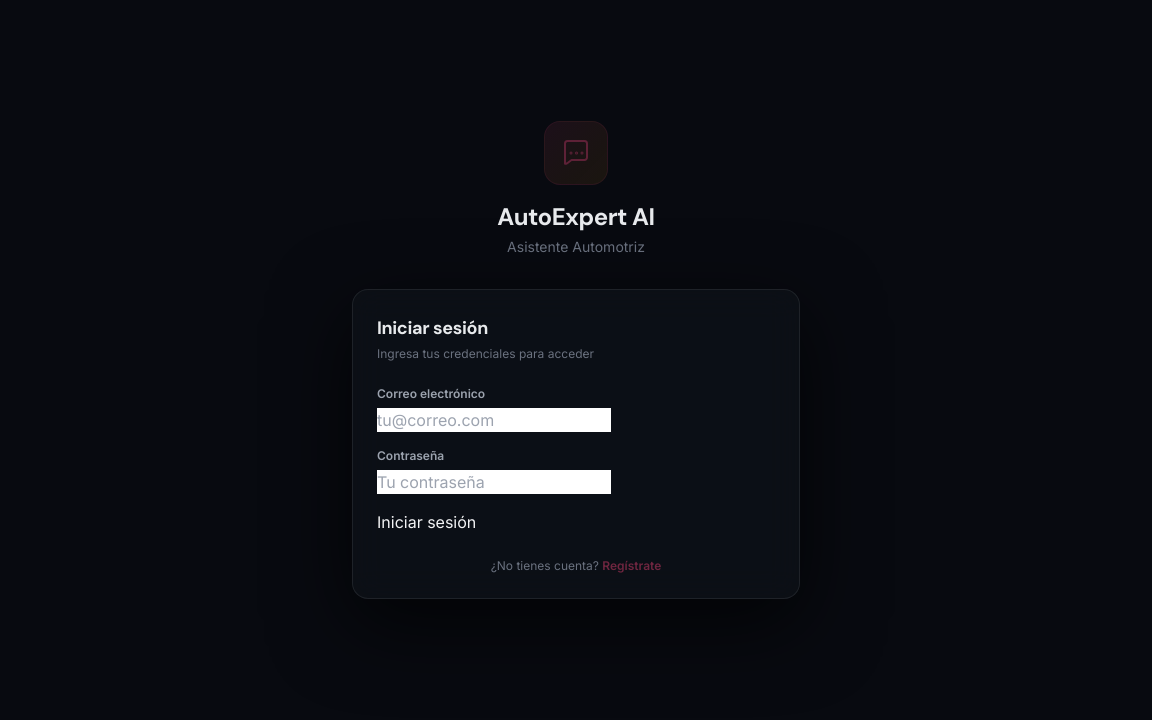
AuthPage › switches to register when Regístrate is clicked
Click the button "Regístrate" at (632, 566), box [602, 558, 661, 574]
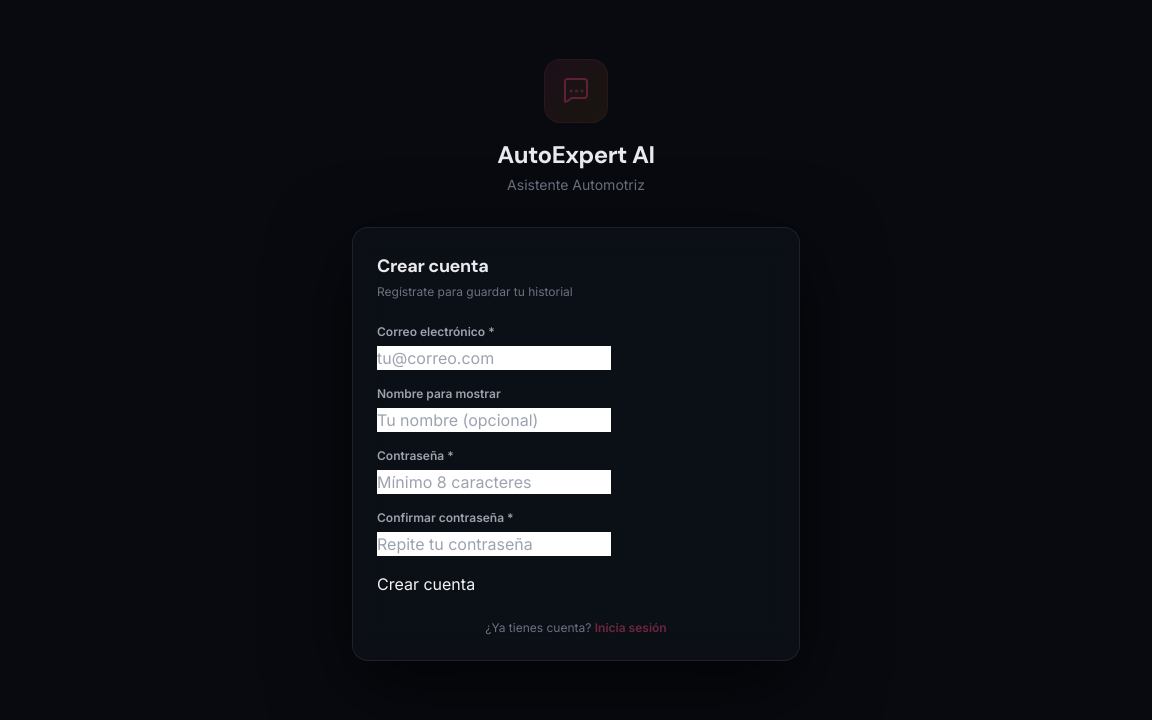
Check: the text "¿Ya tienes cuenta?" is shown, box [485, 620, 591, 635]
